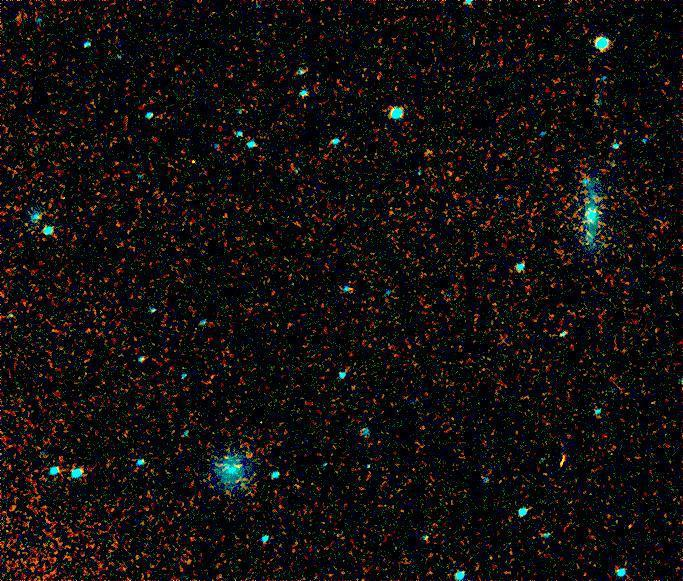star: (586, 195, 616, 225)
